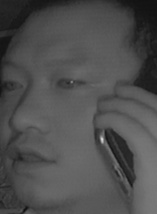eye: (54, 74, 88, 94), (2, 76, 25, 92)
mouth: (6, 137, 57, 174)
